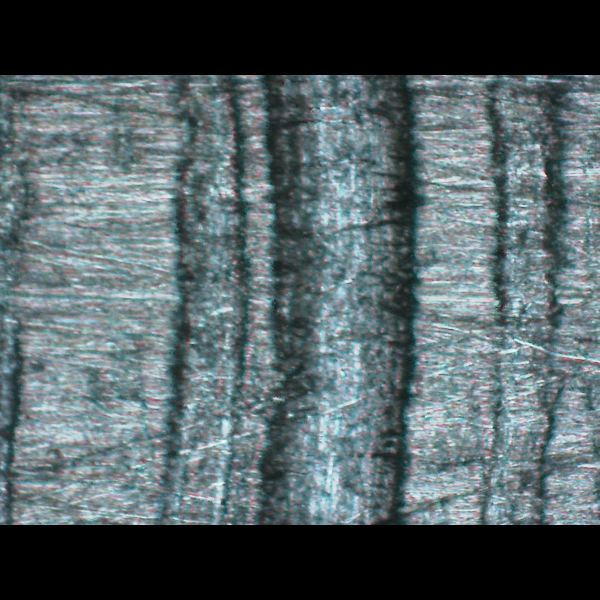d: (160, 76, 424, 524), (473, 77, 589, 524)
